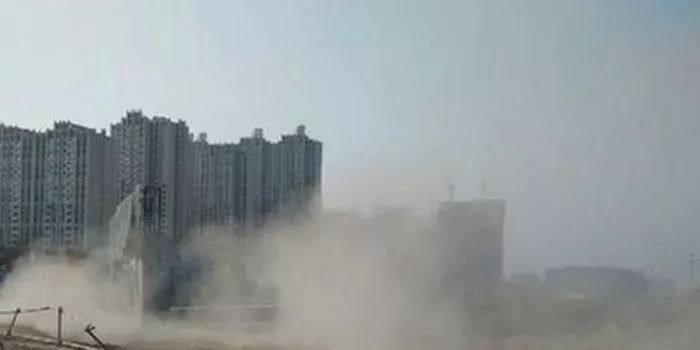dust: (193, 189, 477, 350)
